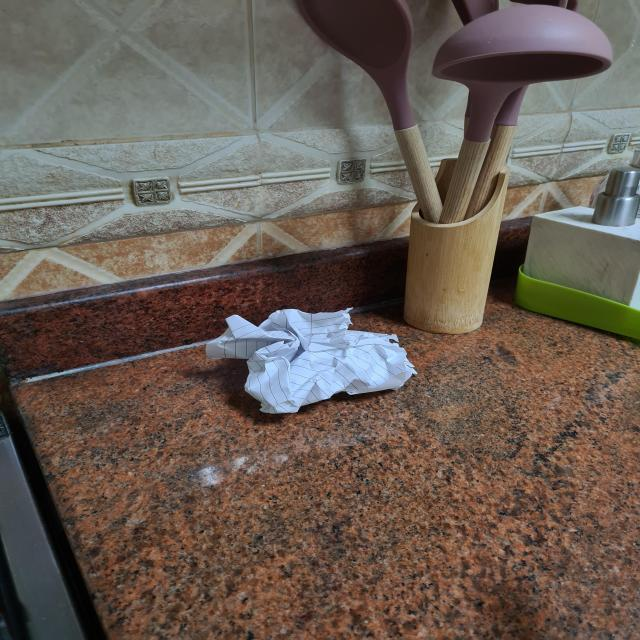trash: (208, 297, 426, 421)
